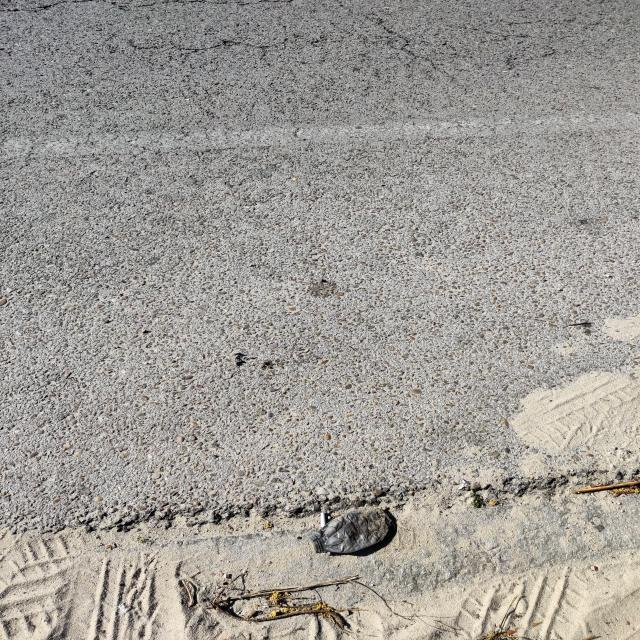litter: (306, 507, 395, 554)
